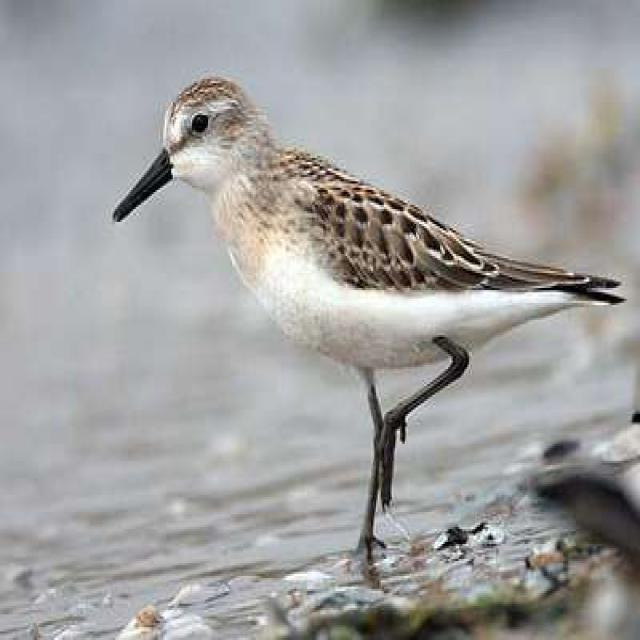Sandpiper: (109, 70, 612, 540)
